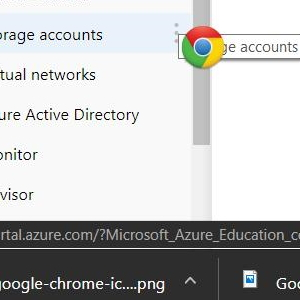chrome: (181, 25, 224, 69)
